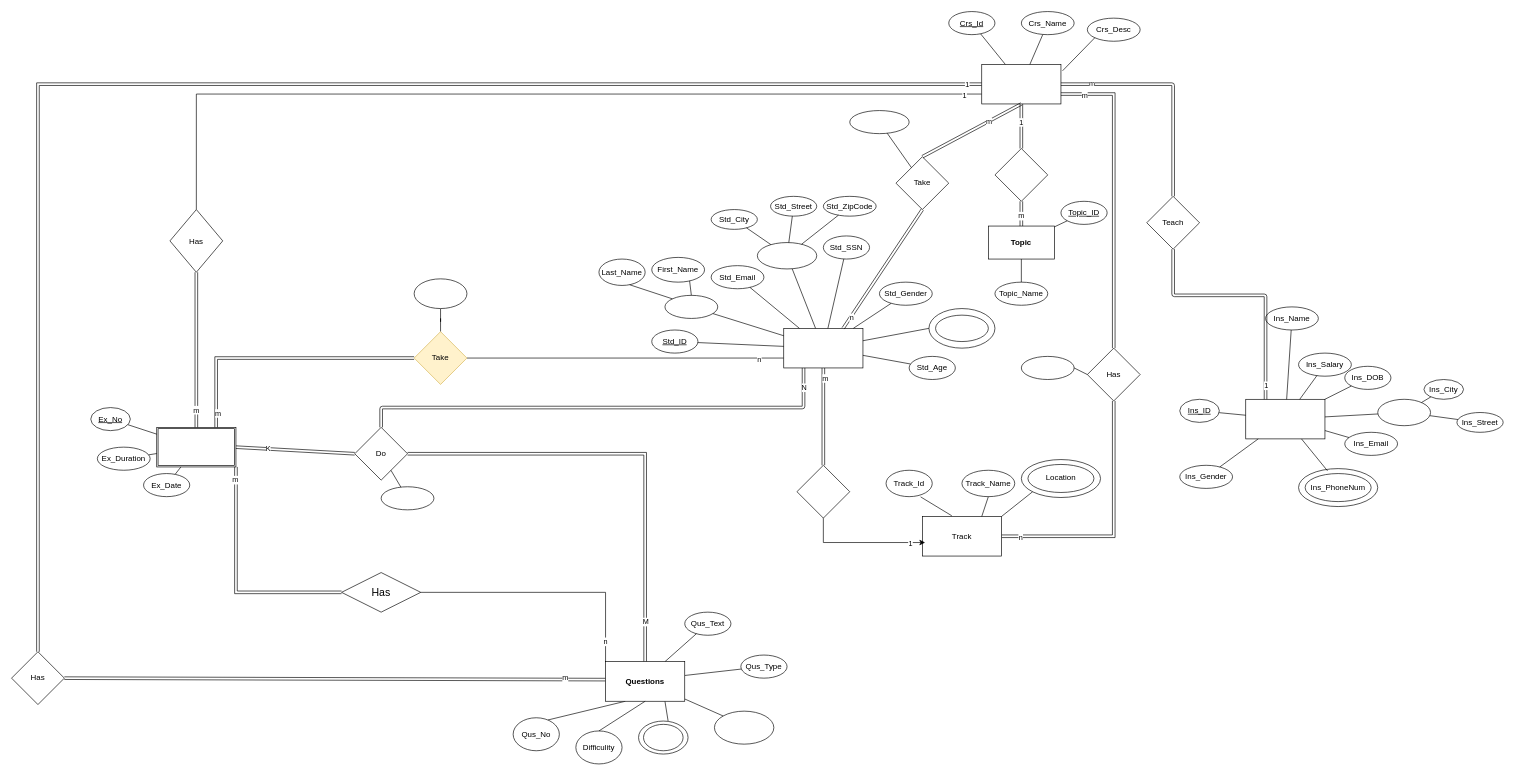
Some shapes in this 1515 by 776 pixel diagram are drawn without their labels. The box of each missing label's shape, as (x1, y1, x2, y2) in pixels:
Attend_Status: (849, 110, 909, 134)
Choice: (643, 724, 683, 751)
Correct Answer: (714, 710, 774, 744)
Course: (981, 64, 1061, 104)
Enroll: (796, 465, 850, 518)
Exam: (156, 427, 236, 467)
Grade: (413, 278, 467, 309)
Include: (994, 148, 1048, 201)
Ins_Address: (1377, 399, 1431, 426)
Instructor: (1245, 399, 1325, 439)
Start_date: (1021, 356, 1074, 380)
Std_Address: (757, 242, 817, 269)
Std_Answer: (380, 486, 434, 510)
Std_Name: (664, 295, 718, 318)
Std_PhoneNo: (935, 314, 988, 342)
Student: (783, 328, 863, 368)
